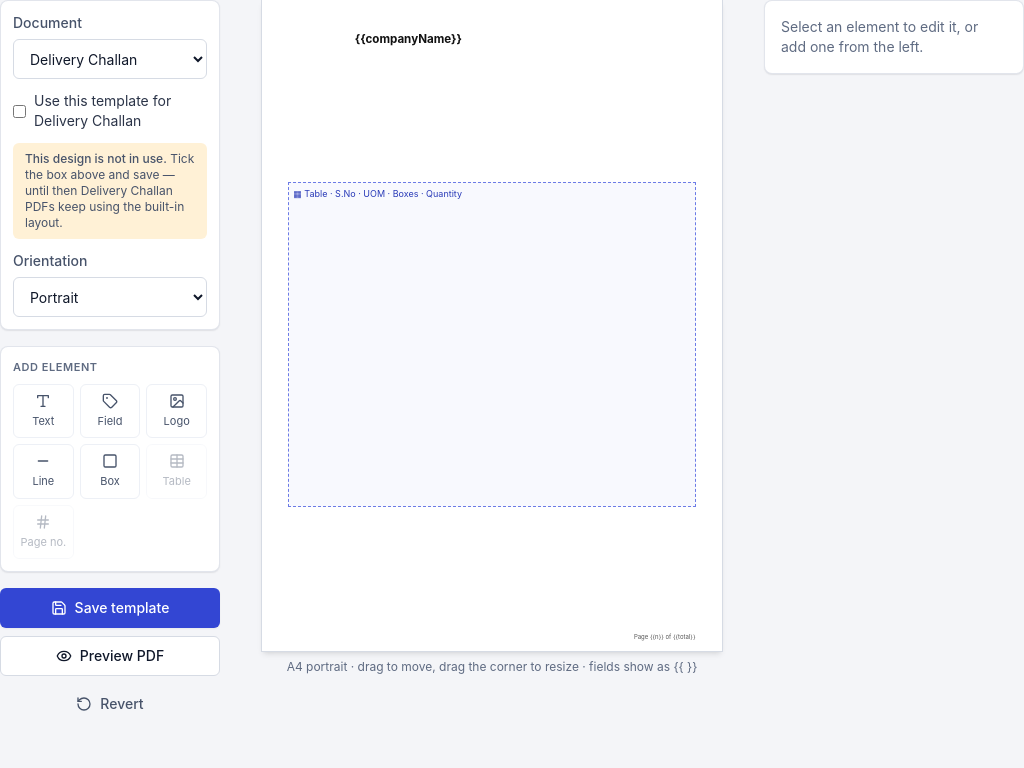
Test: the PDF designer on a built-in layout › shows a column's own field and format
Press the mouse on the text "▦ Table · S.No · UOM · Boxes · Quantity" at [492, 345], box [288,182,696,507]
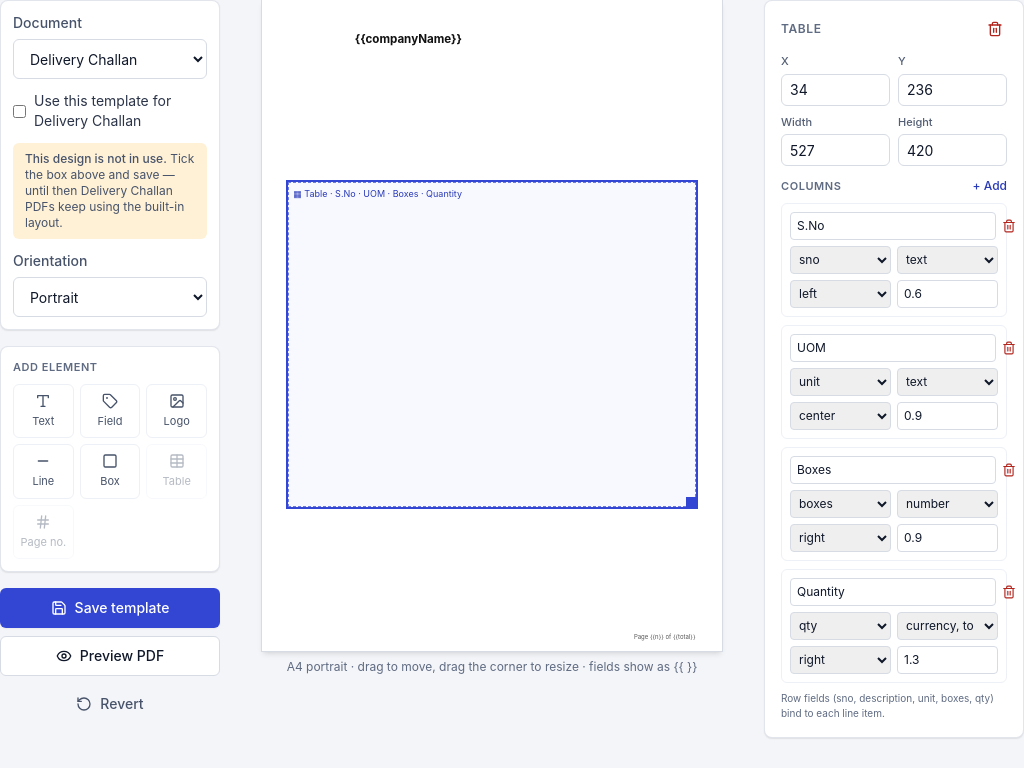
Expected: the text "sno" is shown, [836,692,990,704]
Expected: the text "unit" is shown, [836,692,990,704]
Expected: the text "qty" is shown, [836,692,990,704]
